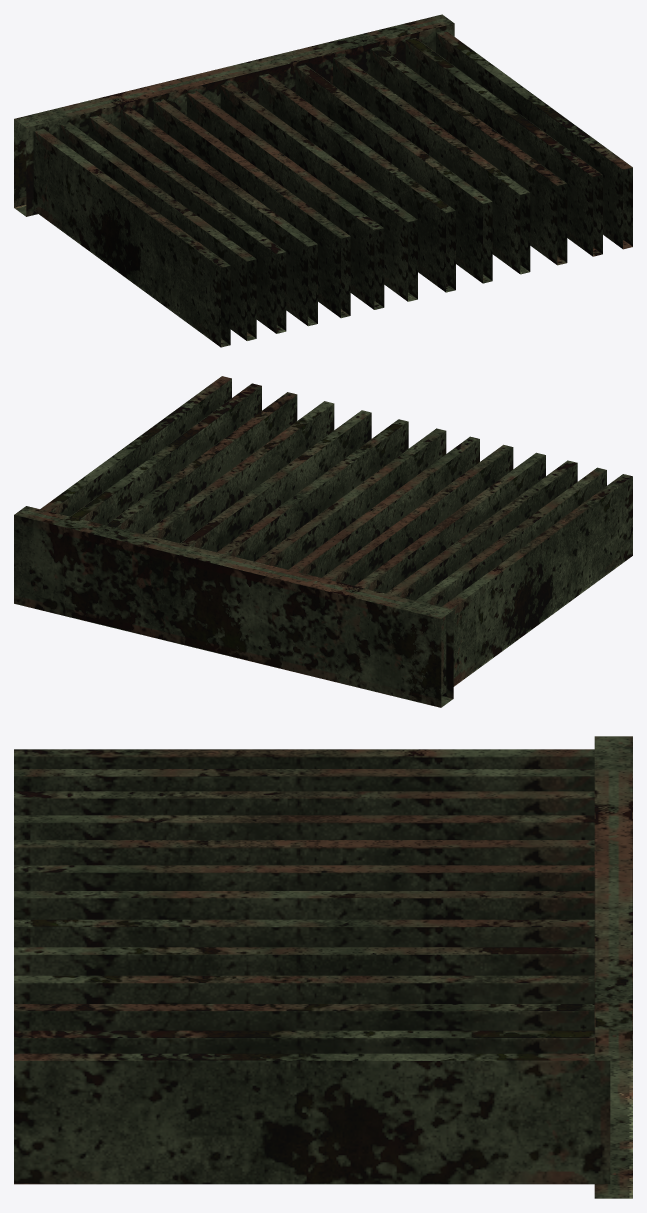
The model's file is Floor Tile.fbx.
3 renders of one model, top to bottom at view 1: azimuth 30°, elevation 25°; view 2: azimuth 150°, elevation 25°; view 3: azimuth 270°, elevation 25°, orthographic. The views are drawn at different scales.
Parts seen in each view (by area): view 1: Floor_Tile; view 2: Floor_Tile; view 3: Floor_Tile.
Part boxes in pixels (x1=…): Floor_Tile: x1=14, y1=14, x2=632, y2=347; Floor_Tile: x1=14, y1=376, x2=632, y2=707; Floor_Tile: x1=14, y1=736, x2=632, y2=1198.
Bounding box in the file's own units: 2.52 × 0.5 × 2.03.
